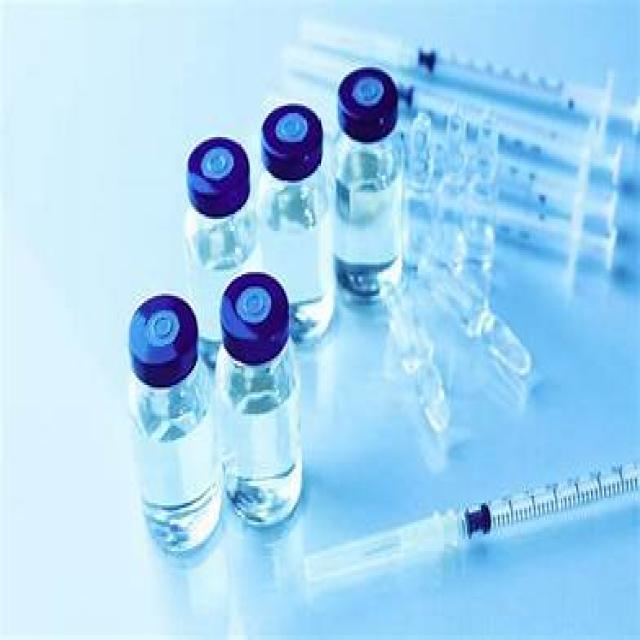vial: (220, 281, 290, 357), (189, 133, 252, 206), (264, 104, 329, 168), (133, 302, 196, 366), (341, 66, 399, 134)
